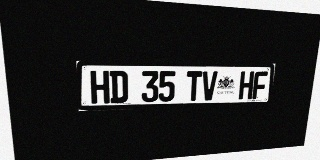3: (142, 71, 159, 102)
5: (159, 71, 176, 102)
D: (110, 71, 128, 103)
F: (252, 71, 268, 99)
H: (90, 71, 110, 104), (238, 71, 254, 99)
T: (186, 71, 202, 101)
V: (201, 71, 218, 101)
